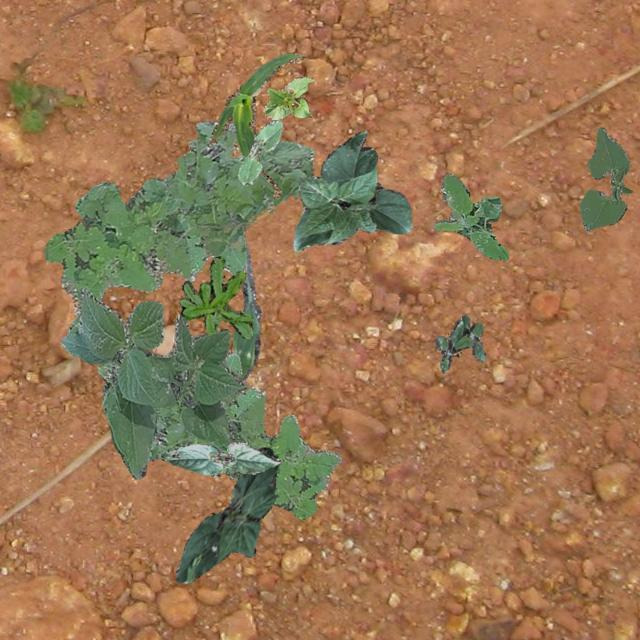crop: (59, 284, 246, 478), (106, 242, 260, 378), (292, 130, 412, 252), (175, 447, 276, 582), (208, 52, 300, 198), (580, 127, 630, 230), (160, 440, 280, 474), (237, 118, 280, 184), (262, 74, 312, 119)
weed: (44, 120, 312, 306), (96, 352, 340, 518), (433, 172, 508, 260), (178, 255, 252, 338), (434, 314, 484, 372)
